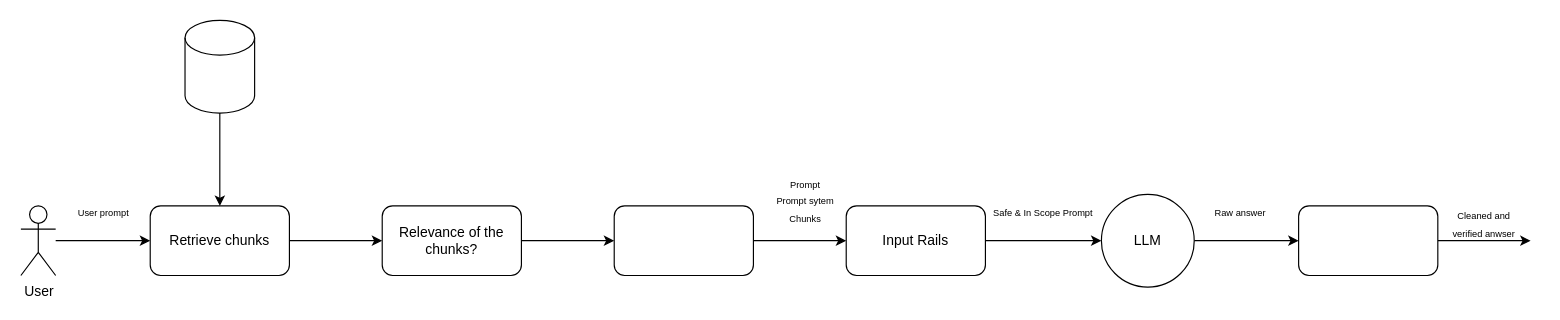
The diagram is 1560 pixels wide and 320 high, and some of its shapes have lost their labels. The box of each missing label's shape, as (x1, y1, x2, y2) in pixels:
Chroma DB: (184, 19, 255, 113)
Enhance prompt: (613, 205, 753, 276)
Output Rails: (1297, 205, 1438, 276)
